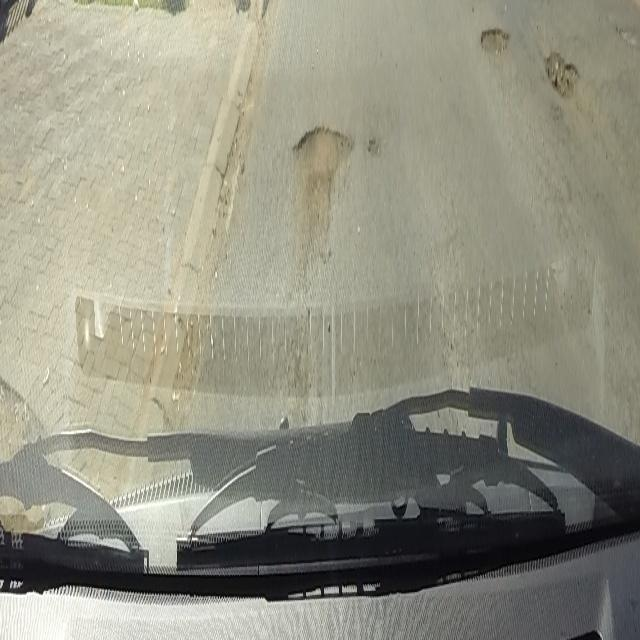pothole: (292, 116, 391, 246), (542, 42, 578, 104), (480, 20, 510, 54)
